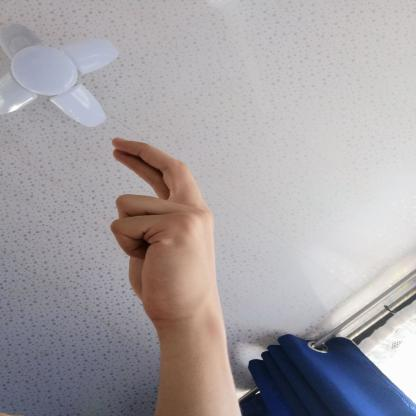ZAY: (99, 127, 234, 335)
